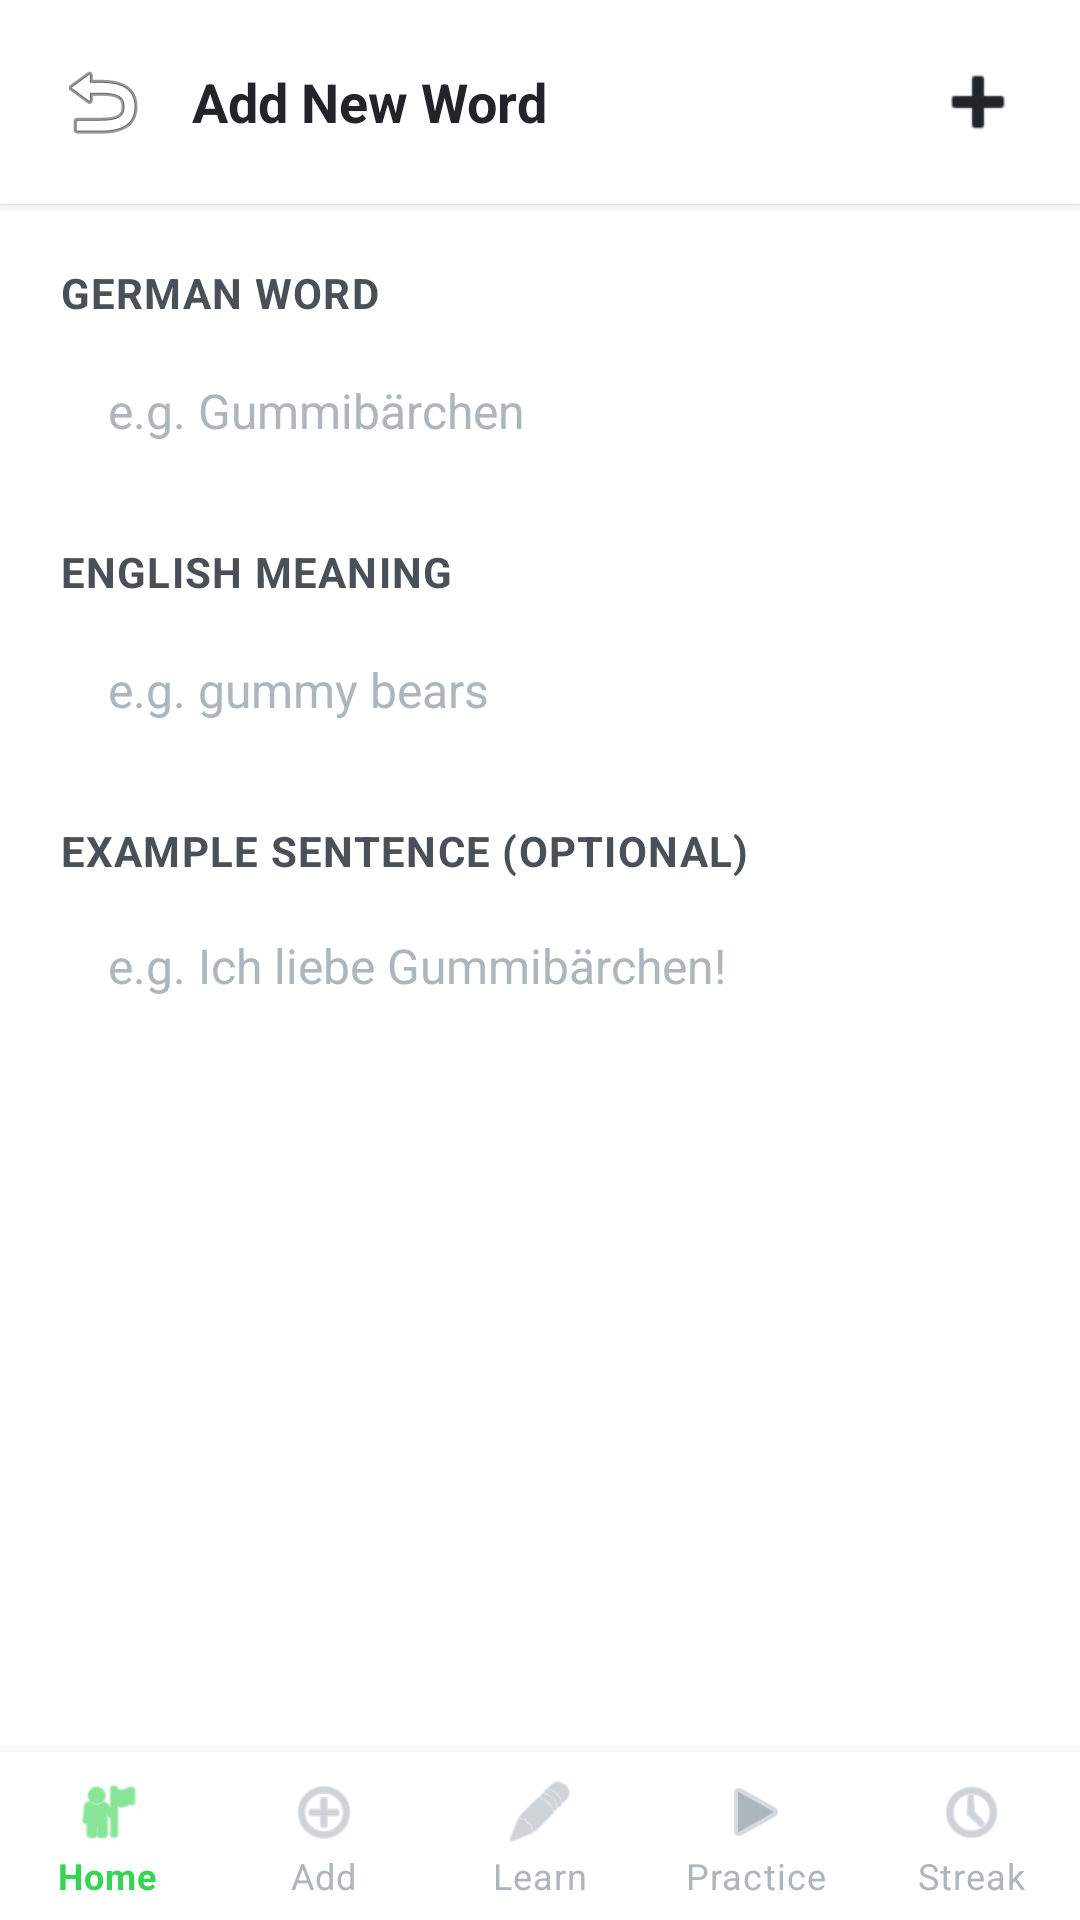

Named icons in this screenshot (1080*1920) and their centers, (x=x, y=y):
Back: (x=103, y=102)
